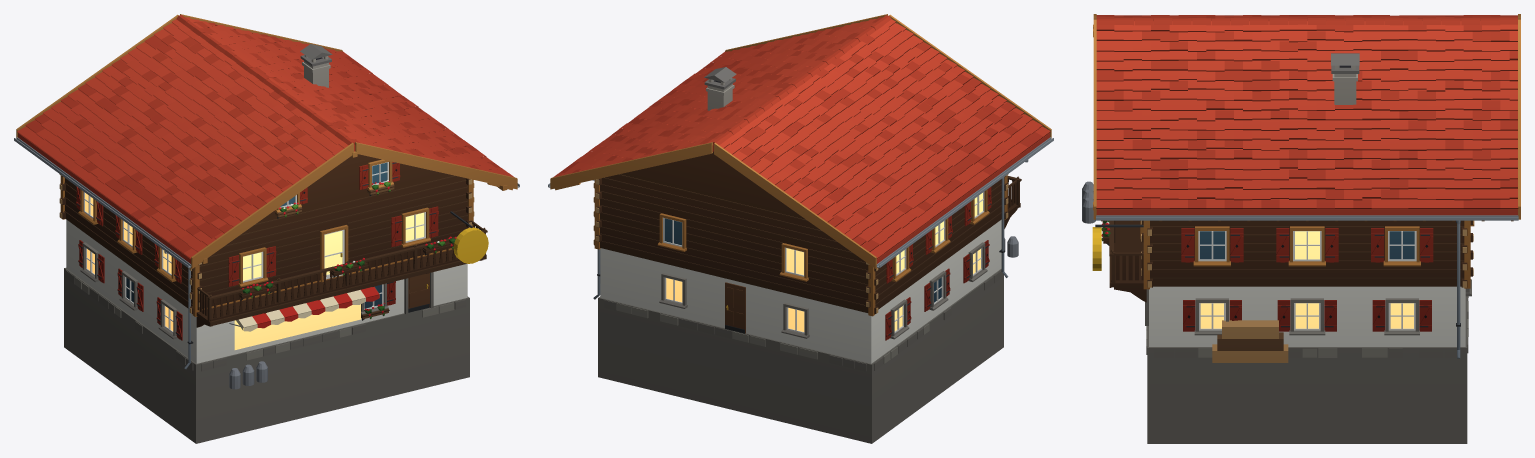
Rendered from Dairy.fbx.
3 views of the same model, side by side, from view 1: azimuth 30°, elevation 25°; view 2: azimuth 150°, elevation 25°; view 3: azimuth 270°, elevation 25° (orthographic). The views are drawn at different scales.
Parts seen in each view (by area): view 1: Dairy_LOD0; view 2: Dairy_LOD0; view 3: Dairy_LOD0.
Boxes of the visible parts, x1,y1,x2,y2 form: Dairy_LOD0: (14,14,519,443); Dairy_LOD0: (548,14,1053,443); Dairy_LOD0: (1082,14,1520,443).
Size of what is drawn, in the model's own units: 14.68 by 12.12 by 13.87.
1 material, 1 textured.
